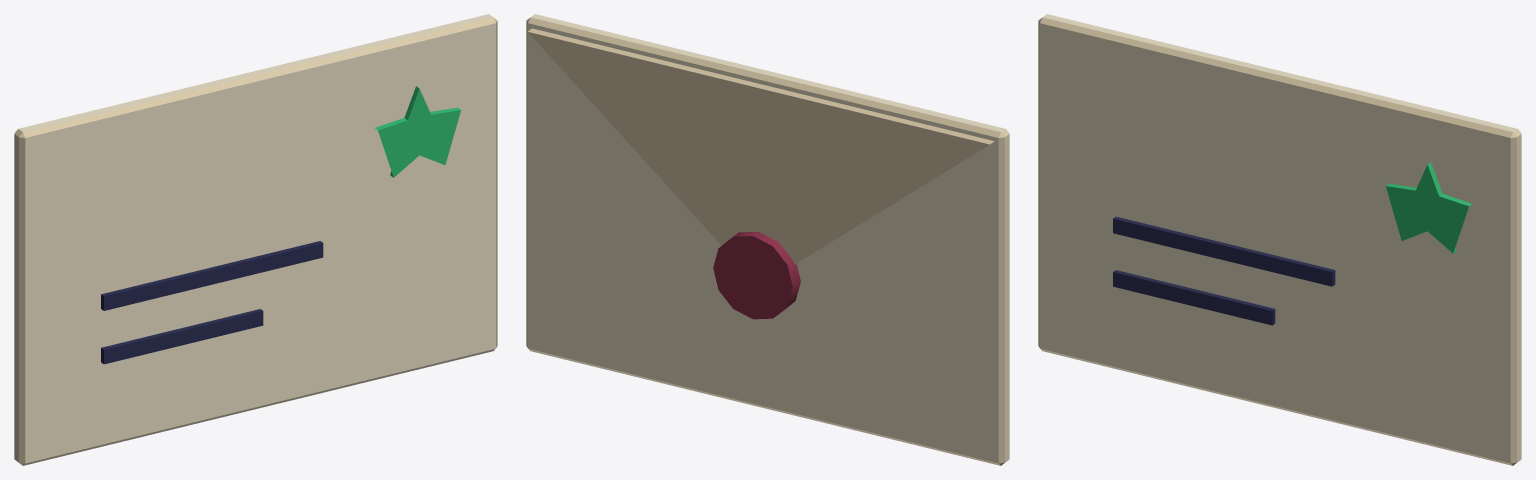
File: Intro_Letter.fbx
The picture shows the model from 3 angles, left to right: view 1: azimuth 30°, elevation 25°; view 2: azimuth 150°, elevation 25°; view 3: azimuth 330°, elevation 25°; orthographic projection.
Parts seen in each view (by area): view 1: Intro_Letter; view 2: Intro_Letter; view 3: Intro_Letter.
Part boxes in pixels (x1,y1,x2,y2): Intro_Letter: (14, 14, 497, 465); Intro_Letter: (526, 14, 1009, 465); Intro_Letter: (1038, 14, 1521, 465).
Size of the model in its own units: 2.4 by 1.6 by 0.2.
1 material, 1 textured.
